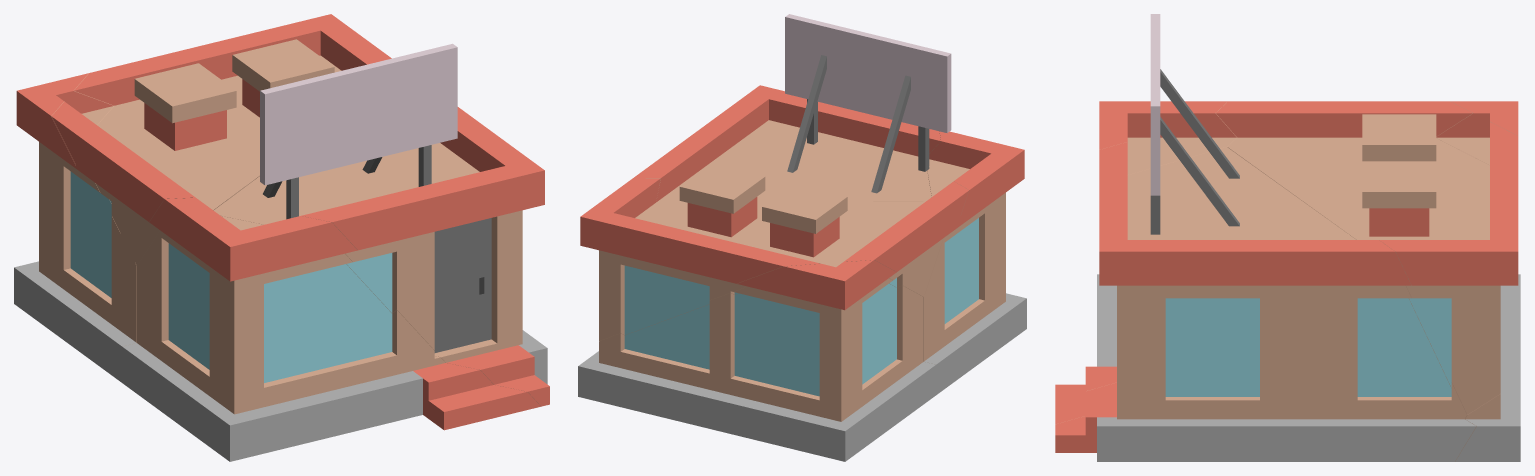
Rendered from House 1.2 Fractured.fbx.
The picture shows the model from 3 angles, left to right: view 1: azimuth 30°, elevation 25°; view 2: azimuth 150°, elevation 25°; view 3: azimuth 270°, elevation 25°; orthographic projection. The views are drawn at different scales.
Visible parts, largest first — view 1: House_Type1_2_Breaking_cell, House_Type1_2_Breaking_cell.002, House_Type1_2_Breaking_cell.003, House_Type1_2_Breaking_cell.001; view 2: House_Type1_2_Breaking_cell.001, House_Type1_2_Breaking_cell.003, House_Type1_2_Breaking_cell.002, House_Type1_2_Breaking_cell; view 3: House_Type1_2_Breaking_cell.002, House_Type1_2_Breaking_cell.003, House_Type1_2_Breaking_cell, House_Type1_2_Breaking_cell.001.
Boxes of the visible parts, bbox=[...] form: House_Type1_2_Breaking_cell: bbox=[122, 197, 540, 461]; House_Type1_2_Breaking_cell.002: bbox=[214, 43, 549, 406]; House_Type1_2_Breaking_cell.003: bbox=[51, 14, 391, 265]; House_Type1_2_Breaking_cell.001: bbox=[14, 73, 136, 382]; House_Type1_2_Breaking_cell.001: bbox=[578, 260, 936, 461]; House_Type1_2_Breaking_cell.003: bbox=[580, 163, 968, 340]; House_Type1_2_Breaking_cell.002: bbox=[597, 14, 951, 352]; House_Type1_2_Breaking_cell: bbox=[923, 131, 1026, 394]; House_Type1_2_Breaking_cell.002: bbox=[1055, 14, 1476, 461]; House_Type1_2_Breaking_cell.003: bbox=[1216, 101, 1518, 414]; House_Type1_2_Breaking_cell: bbox=[1055, 101, 1236, 424]; House_Type1_2_Breaking_cell.001: bbox=[1436, 101, 1520, 461].
Bounding box in the file's own units: 364 × 364 × 471.
